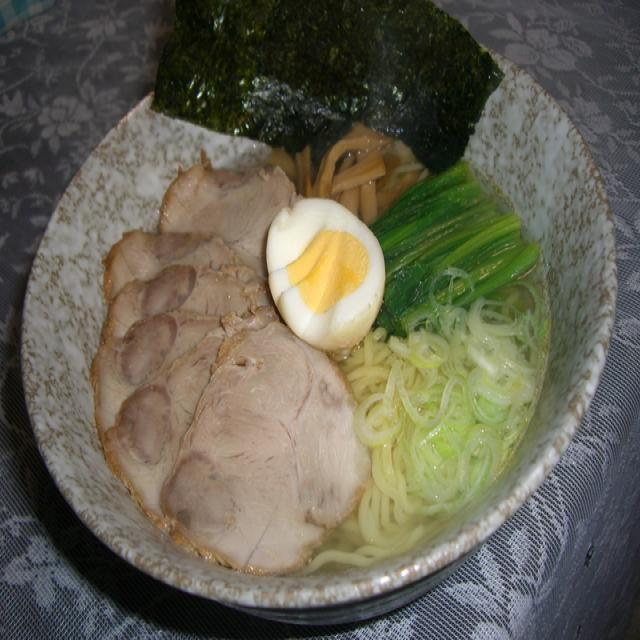面条主食: (81, 42, 553, 582)
